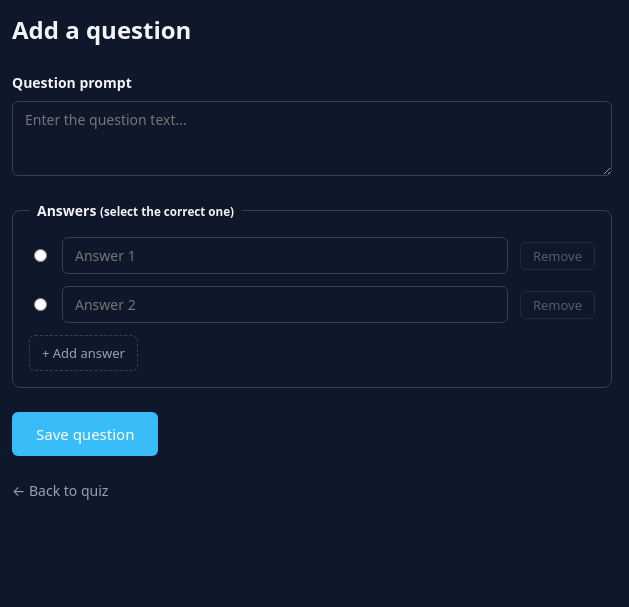
Test case: Add question page › shows error message when submission fails
The image size is (629, 607).
Type "My question?" into the text box labelled "Question prompt" at point(312, 138), box [12, 101, 612, 176]
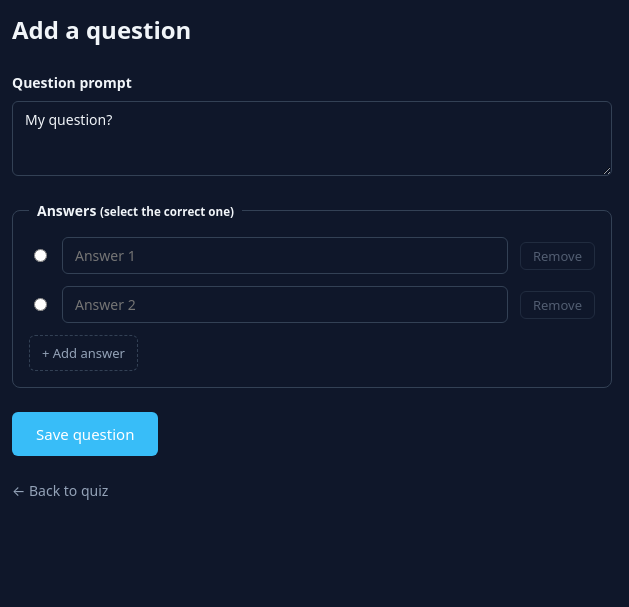
Click the radio button named "Mark answer 1 as correct" at point(40, 255), box [34, 248, 47, 262]
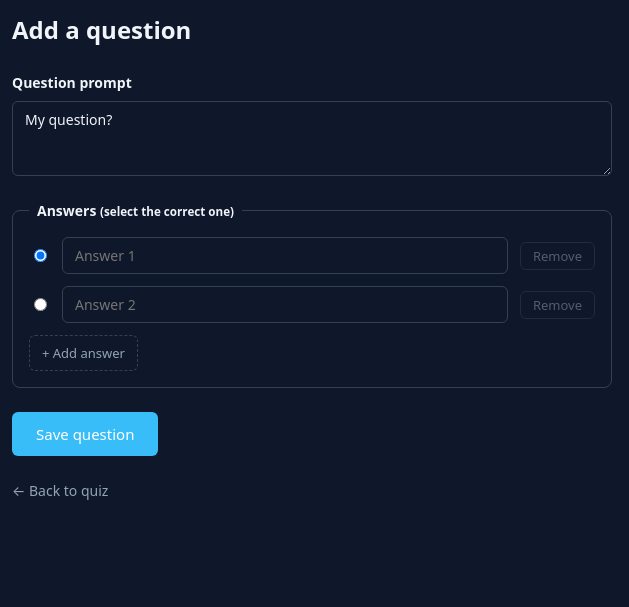
Type "Answer A" into the field with placeholder "Answer 1" at point(285, 256), box [62, 237, 508, 274]
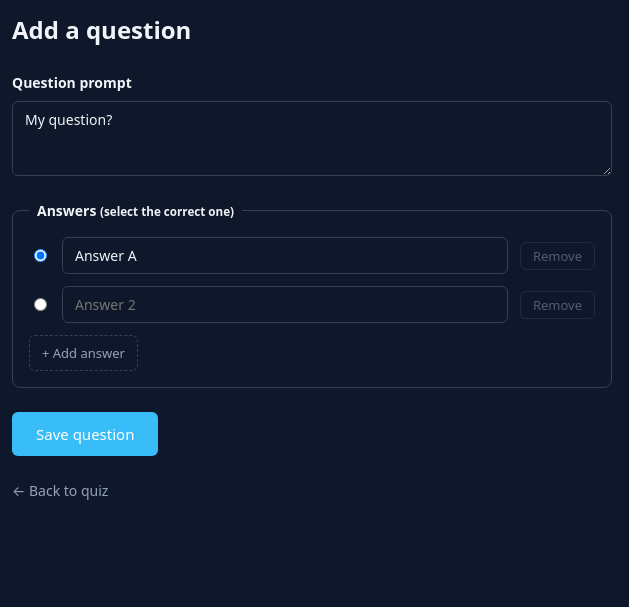
Type "Answer B" into the field with placeholder "Answer 2" at point(285, 304), box [62, 286, 508, 323]
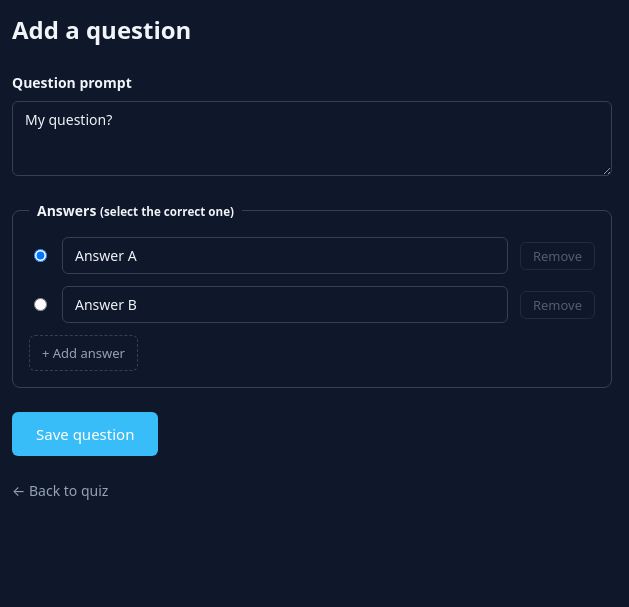
Submit the form
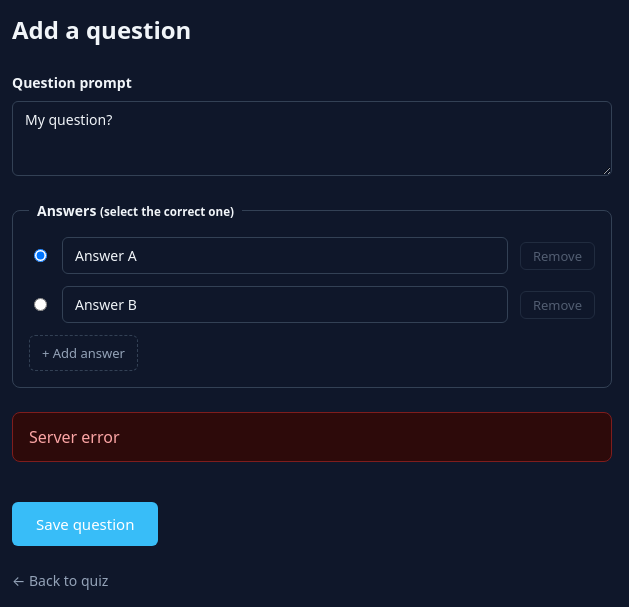
Now the text "Server error" is shown, box [12, 412, 612, 462]
